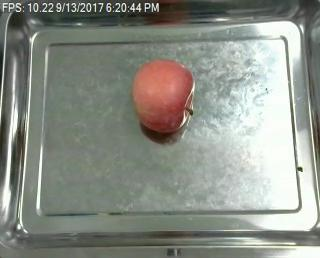apple: (133, 59, 196, 134)
